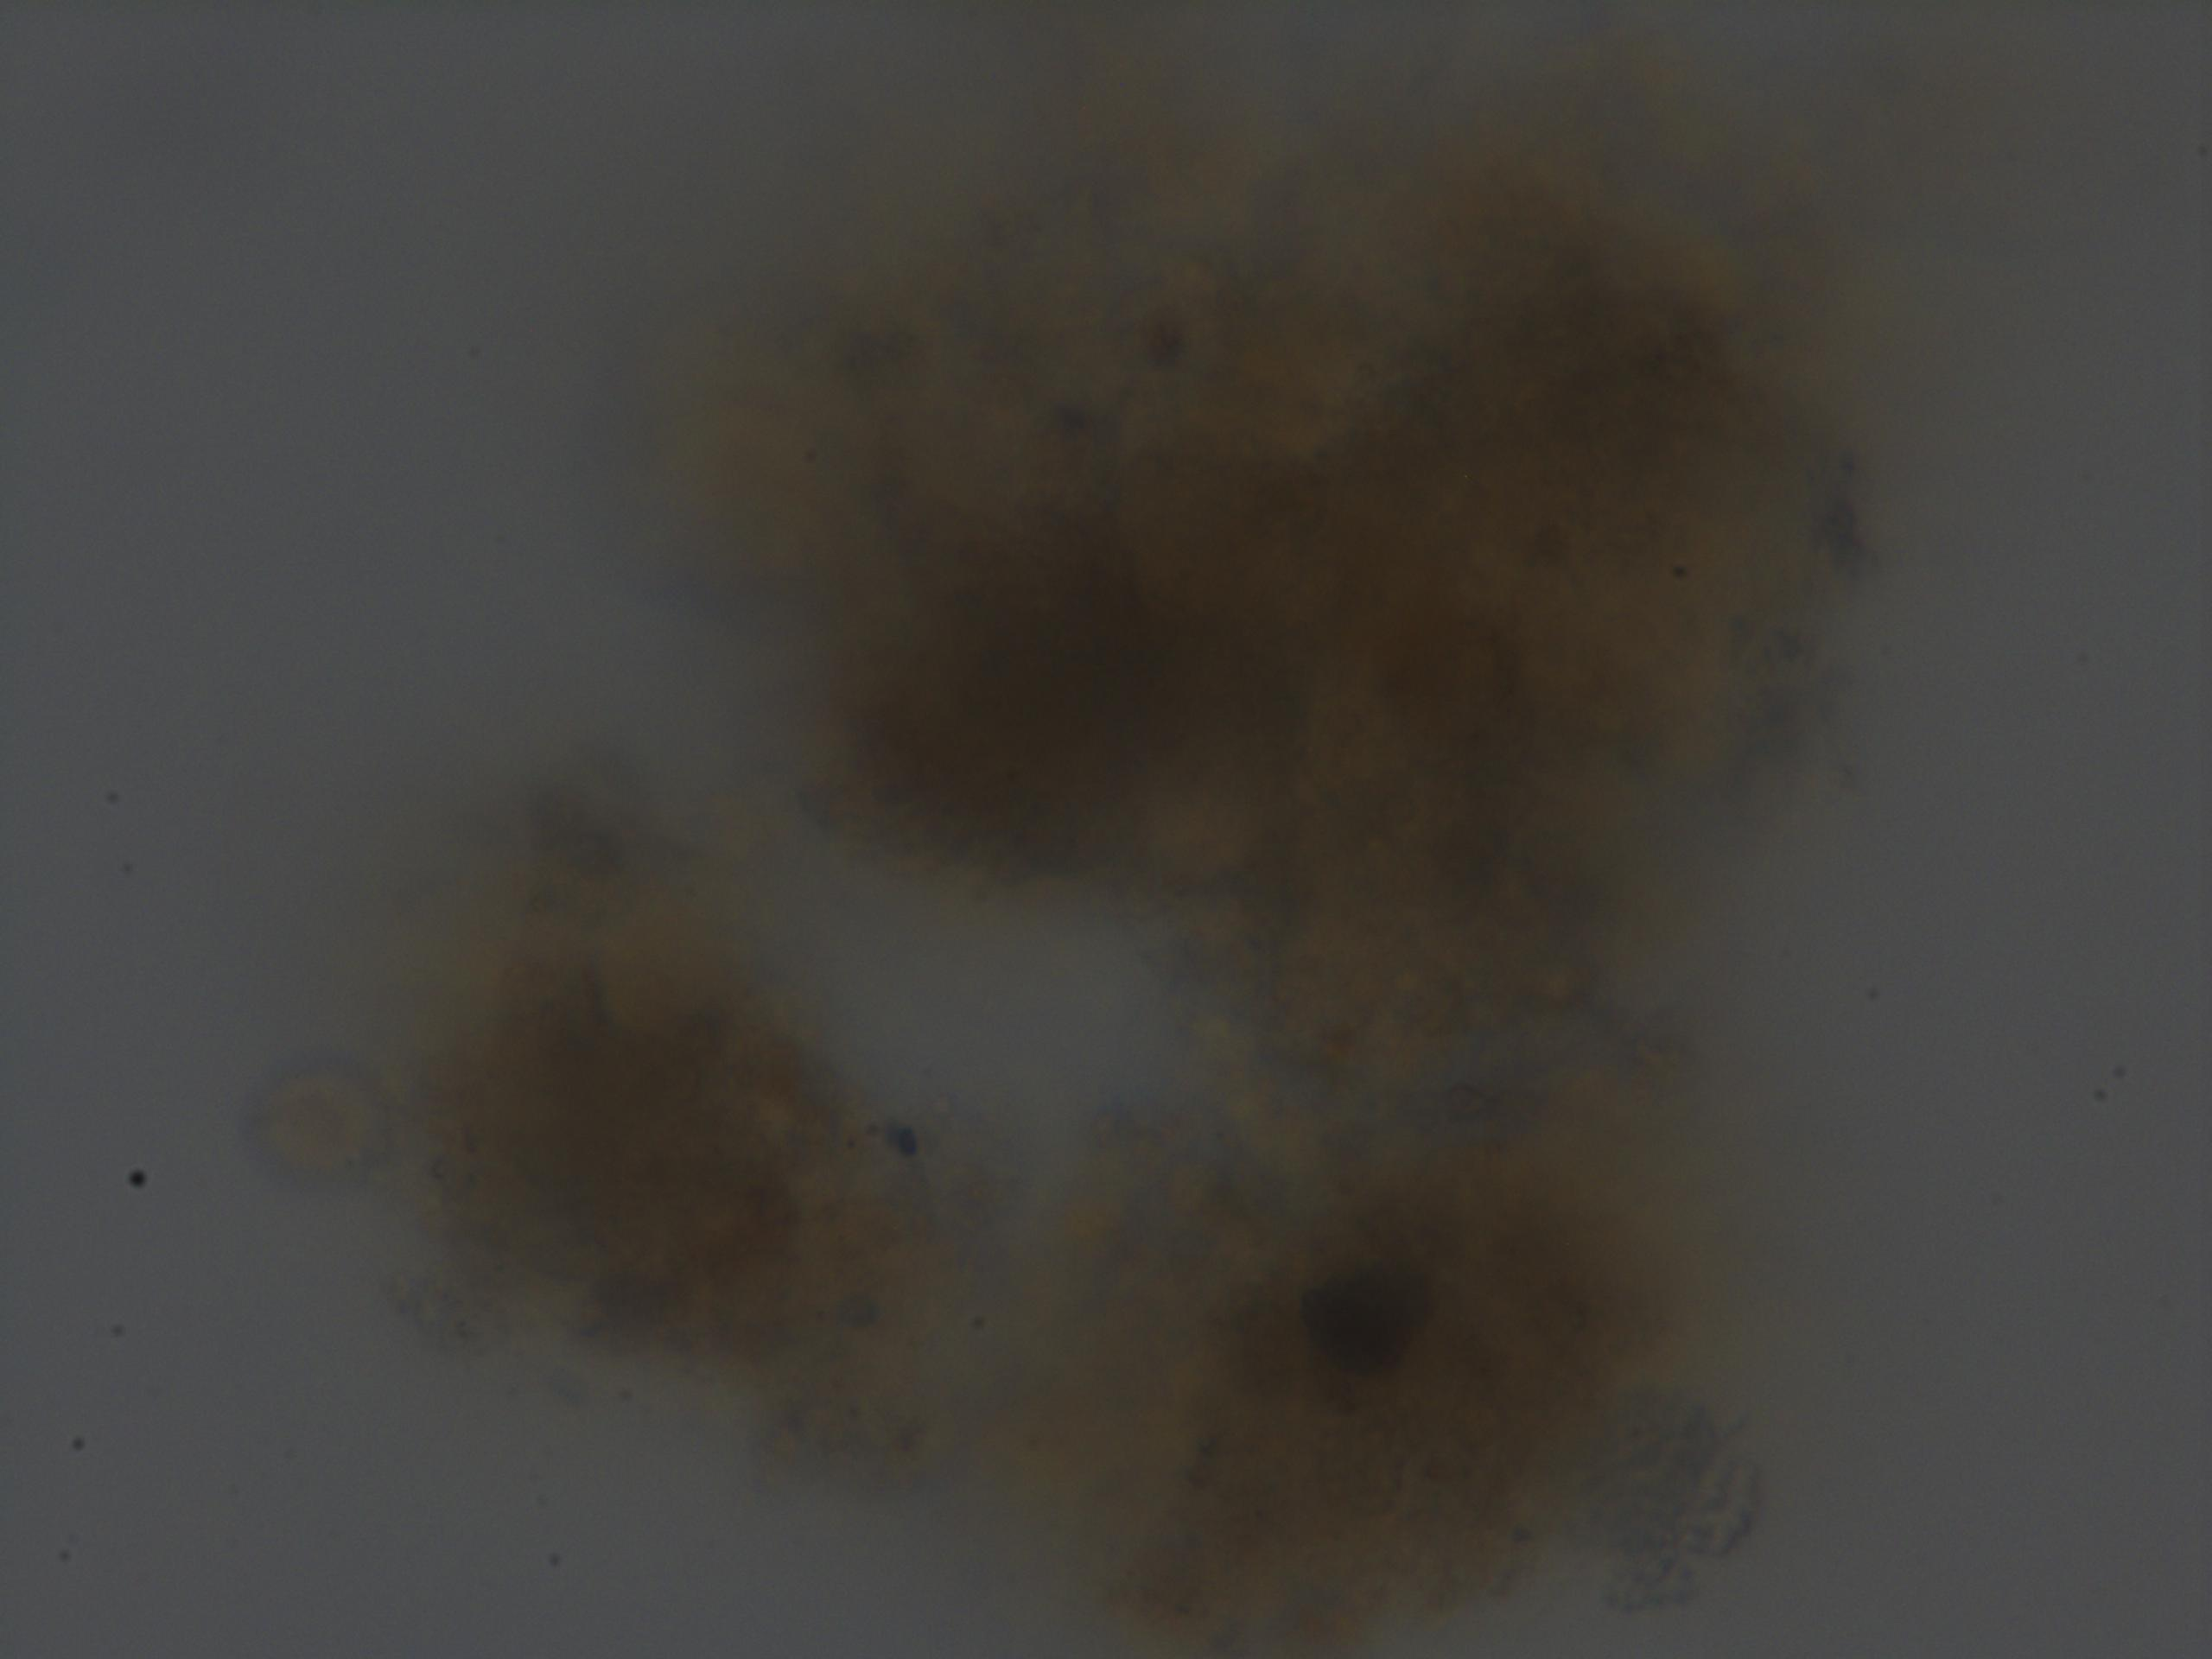open_floc: (395, 68, 1827, 1659)
